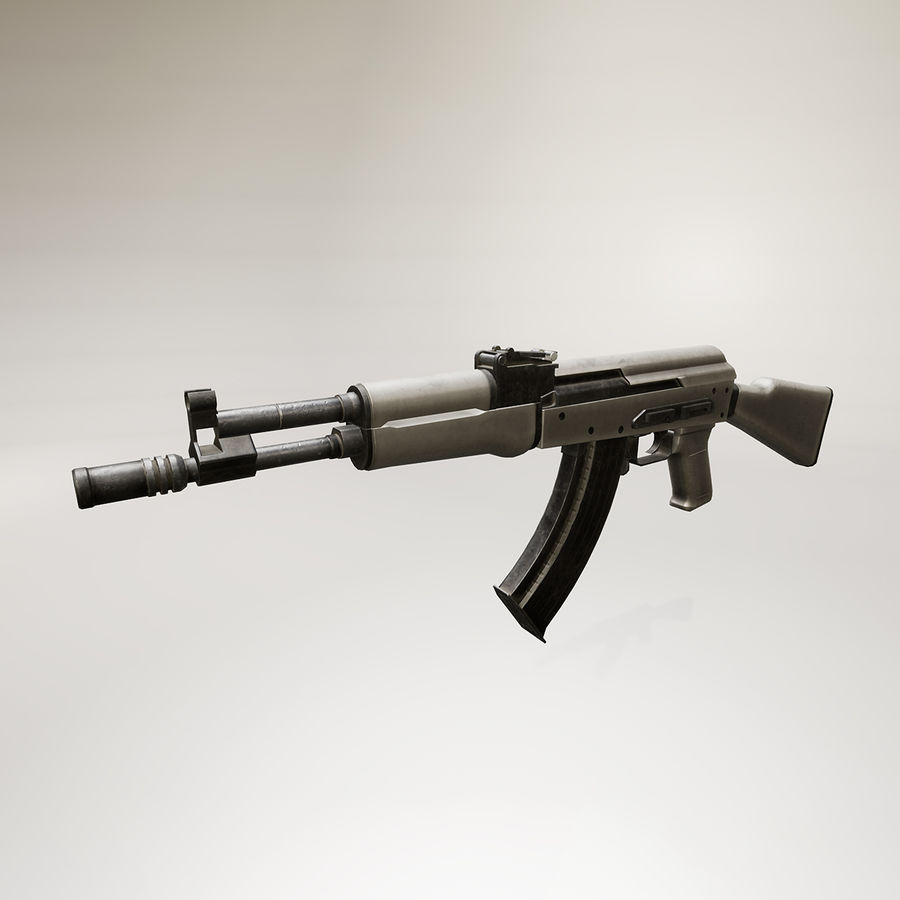weapon: (64, 343, 833, 643)
